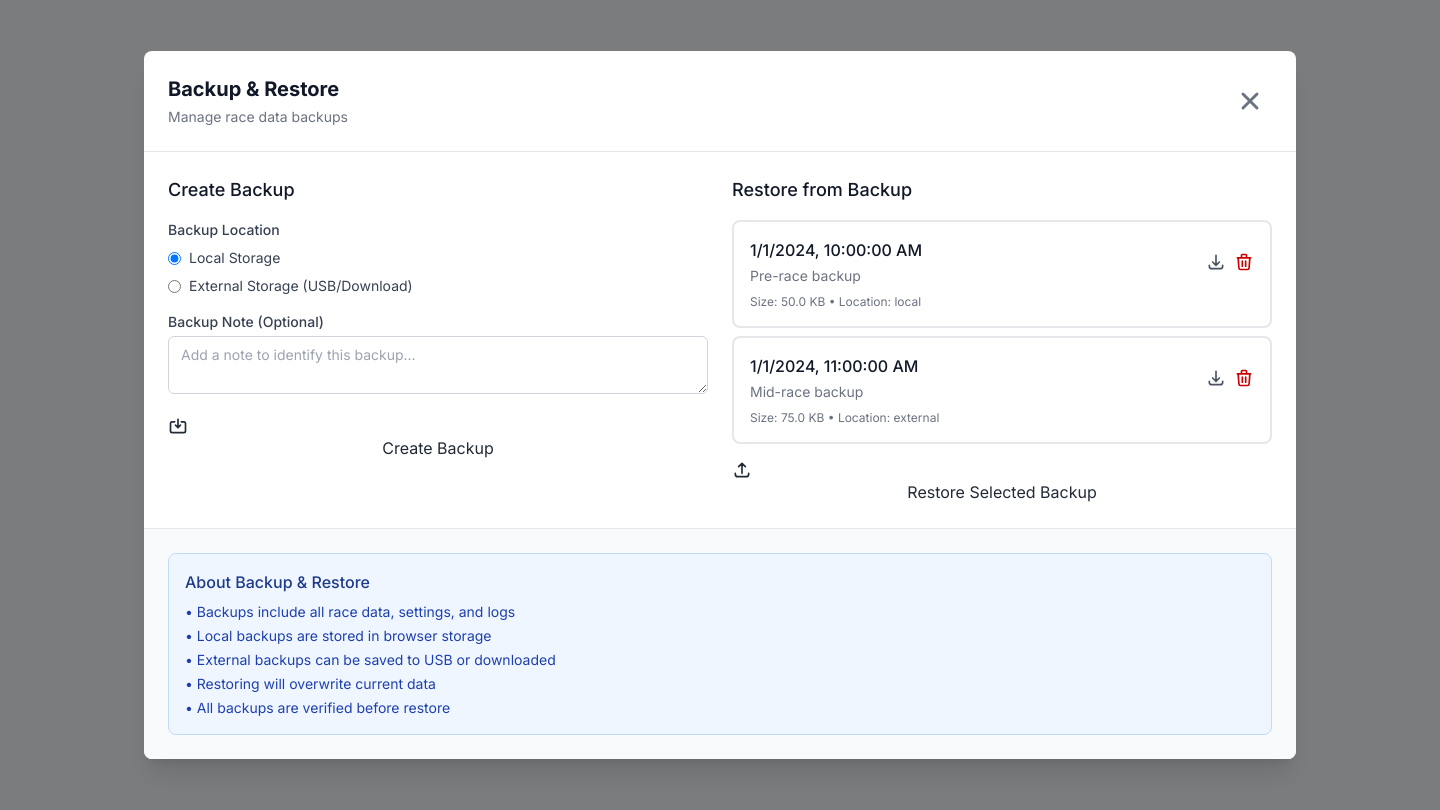
Test case: BackupRestoreDialog › handles errors during backup creation
Try to create backup
Click the button "Create Backup" at coordinates (438, 438), box [168, 416, 708, 460]
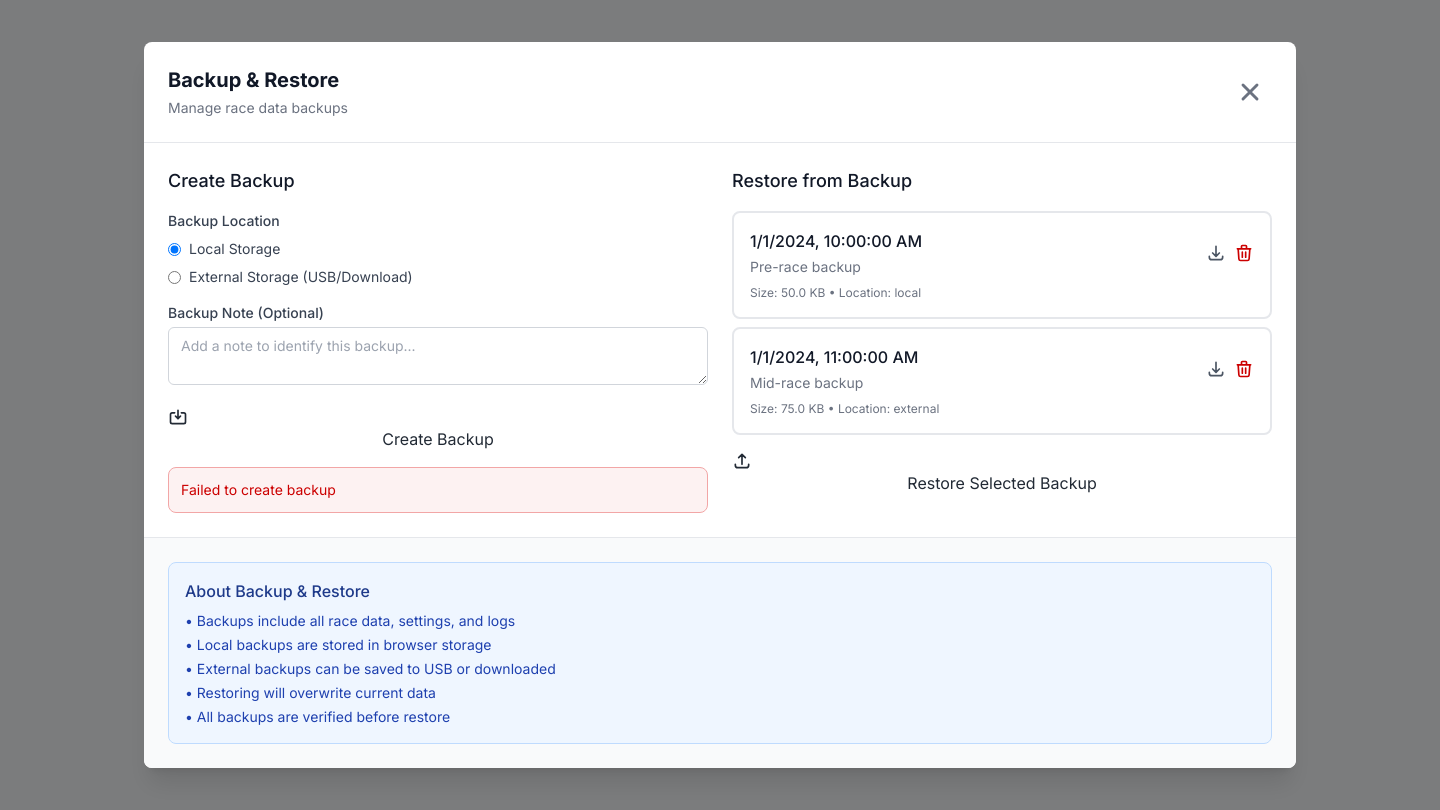
Result: the text "Failed to create backup" is shown at [181, 481, 336, 498]
